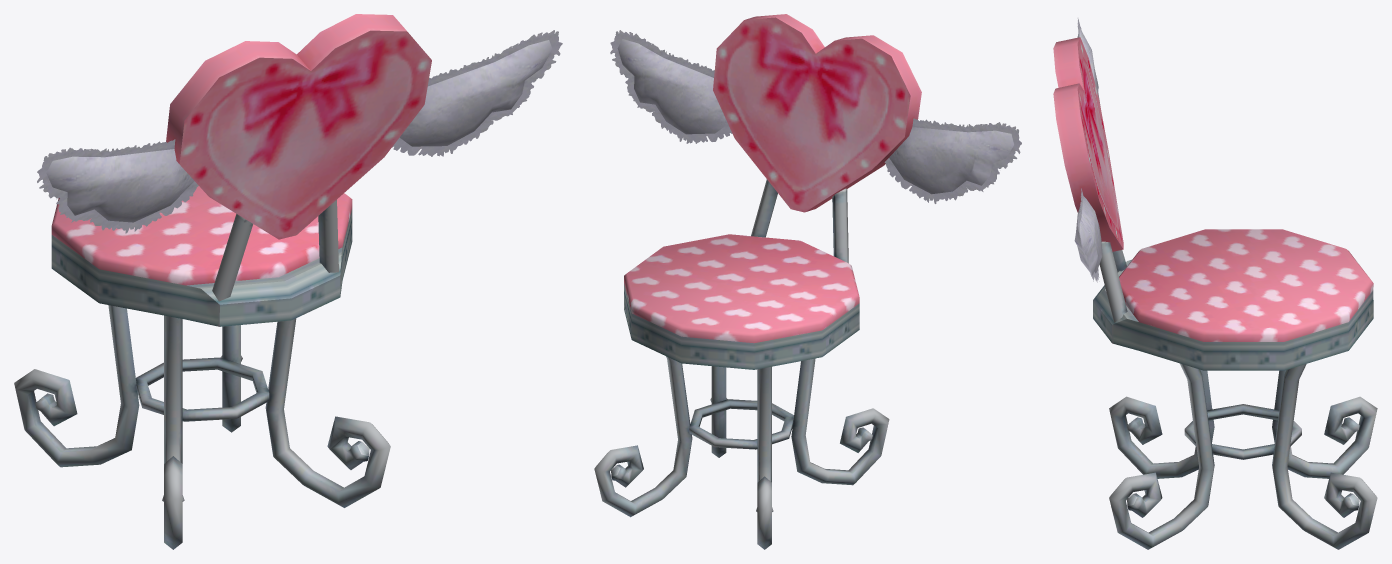
File: furni_0200010.FBX
3 renders of one model, left to right at view 1: azimuth 30°, elevation 25°; view 2: azimuth 150°, elevation 25°; view 3: azimuth 270°, elevation 25°, orthographic. The views are drawn at different scales.
Parts seen in each view (by area): view 1: furni_0200010; view 2: furni_0200010; view 3: furni_0200010.
Part boxes in pixels (box(x1,y1,x2,y2)): furni_0200010: box(14, 14, 562, 549); furni_0200010: box(594, 14, 1021, 549); furni_0200010: box(1053, 18, 1377, 549).
Size of the model in its own units: 94.33 by 90.14 by 59.02.
